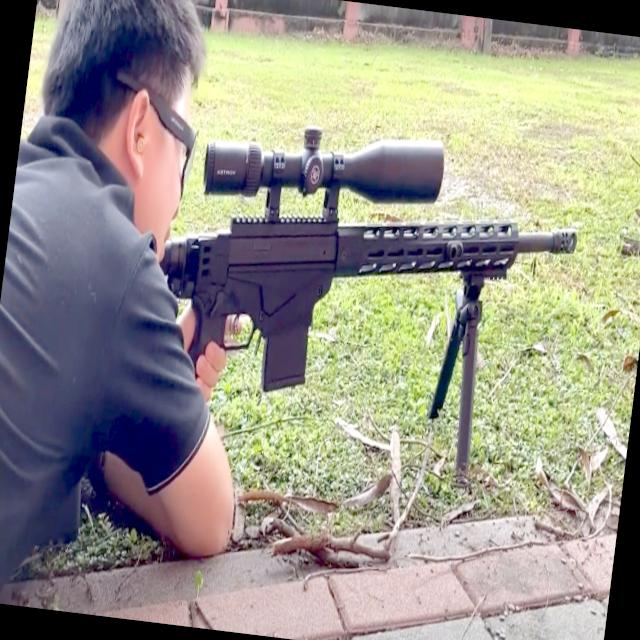rifle: (128, 100, 590, 500)
